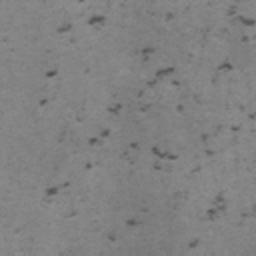Oxide scale of temperature system: (45, 46, 256, 196), (215, 3, 255, 72), (187, 193, 228, 251), (58, 13, 104, 35), (38, 69, 58, 106), (109, 219, 137, 242), (165, 10, 175, 19)
